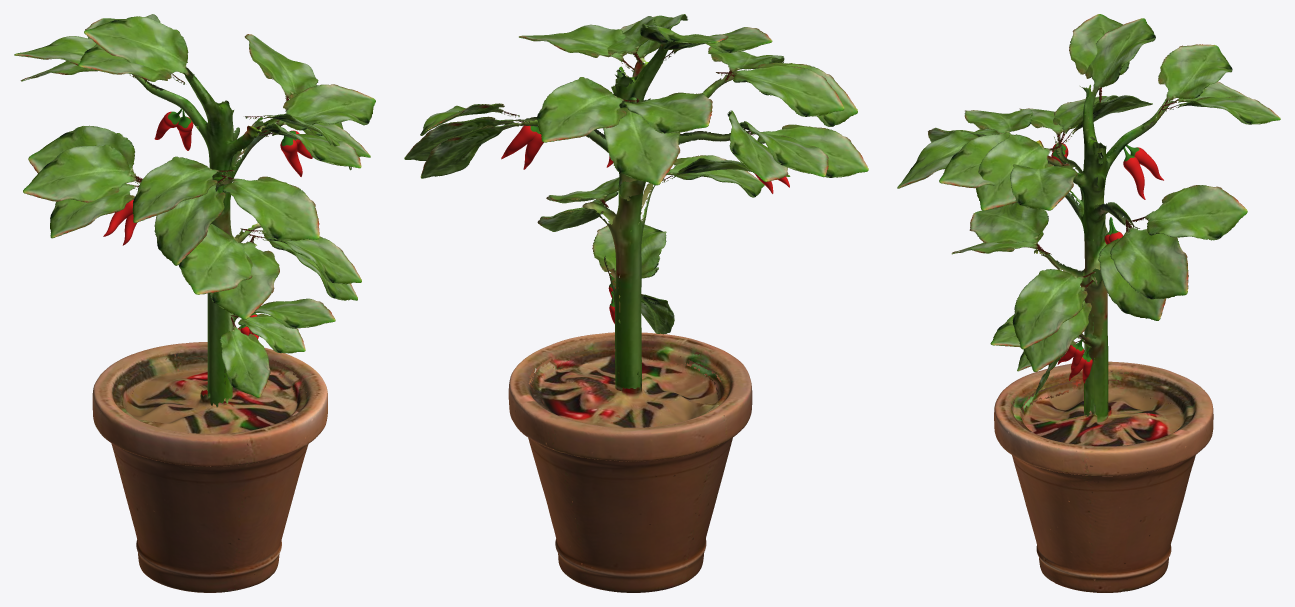
Rendered from chilli_v2.glb.
3 views of the same model, side by side, from view 1: azimuth 30°, elevation 25°; view 2: azimuth 150°, elevation 25°; view 3: azimuth 270°, elevation 25° (orthographic). The views are drawn at different scales.
Visible parts, largest first — view 1: leaf, pot, stem, chilli; view 2: pot, leaf, stem, chilli; view 3: leaf, pot, stem, chilli.
Boxes of the visible parts, <box> form: leaf: <box>14,14,375,397</box>; pot: <box>92,342,327,592</box>; stem: <box>132,66,283,407</box>; chilli: <box>103,108,312,338</box>; pot: <box>508,332,752,592</box>; leaf: <box>404,14,868,334</box>; stem: <box>511,45,749,390</box>; chilli: <box>501,125,789,323</box>; leaf: <box>897,14,1280,395</box>; pot: <box>994,361,1213,592</box>; stem: <box>1034,84,1175,422</box>; chilli: <box>1051,142,1163,383</box>.
Bounding box in the file's own units: 1.41 × 2 × 1.38.
Materials: 4 (4 with a texture image).
